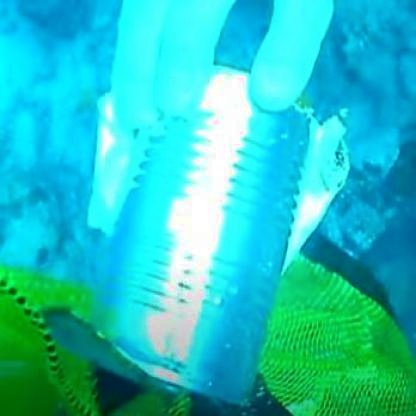can: (112, 64, 317, 416)
